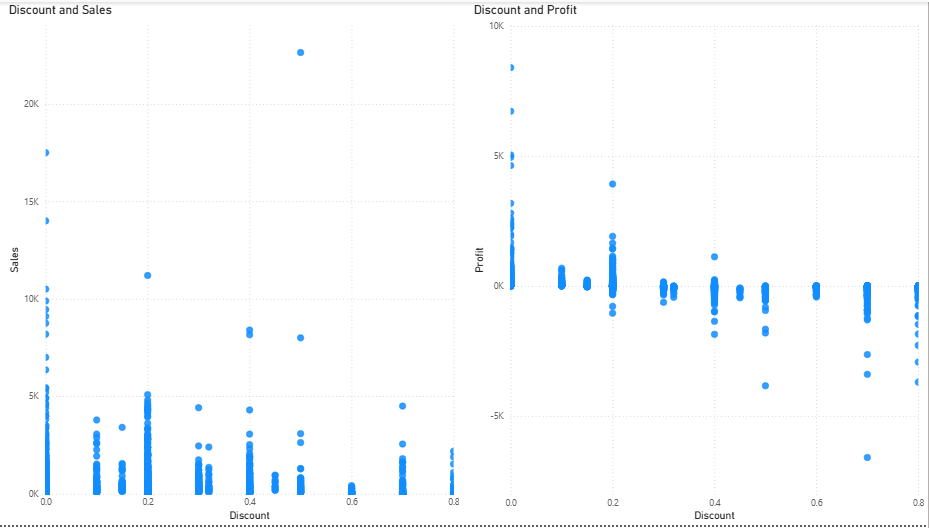

What the dashboard file says about the page in this screenshot:
{"tool":"powerbi","page":{"name":"#1 Q5","canvas":[1280,720],"ordinal":2},"visuals":[{"type":"scatterChart","fields":{"X":["superstore_US_raw.Discount"],"Y":["superstore_US_raw.Sales"]},"box":[9.6,0,630.4,719.8],"z":0},{"type":"scatterChart","fields":{"X":["superstore_US_raw.Discount"],"Y":["superstore_US_raw.Profit"]},"box":[650,0,630,720],"z":1000}]}

Visuals, with their boxes in screenshot pixels (x1, y1, x2, y2), scaled from the page's 1280x720 canvas onto the 929x528 screenshot:
scatterChart - superstore_US_raw.Discount x superstore_US_raw.Sales: 7 0 464 527
scatterChart - superstore_US_raw.Discount x superstore_US_raw.Profit: 472 0 928 527
